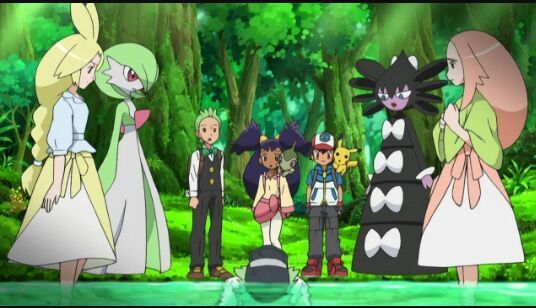gardevoir: (87, 42, 175, 277)
pikachu: (324, 132, 359, 181)
